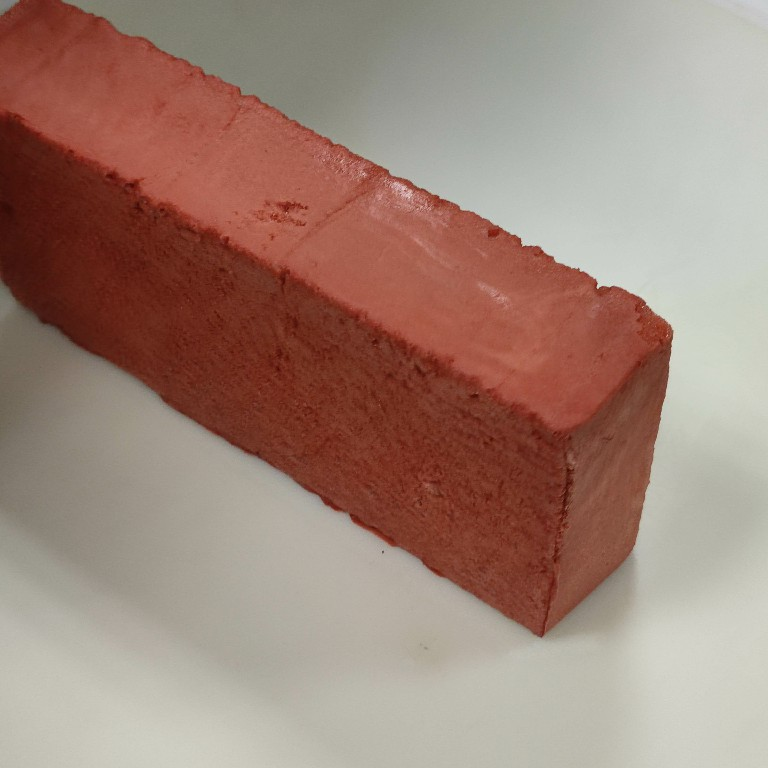brick: (1, 1, 679, 642)
